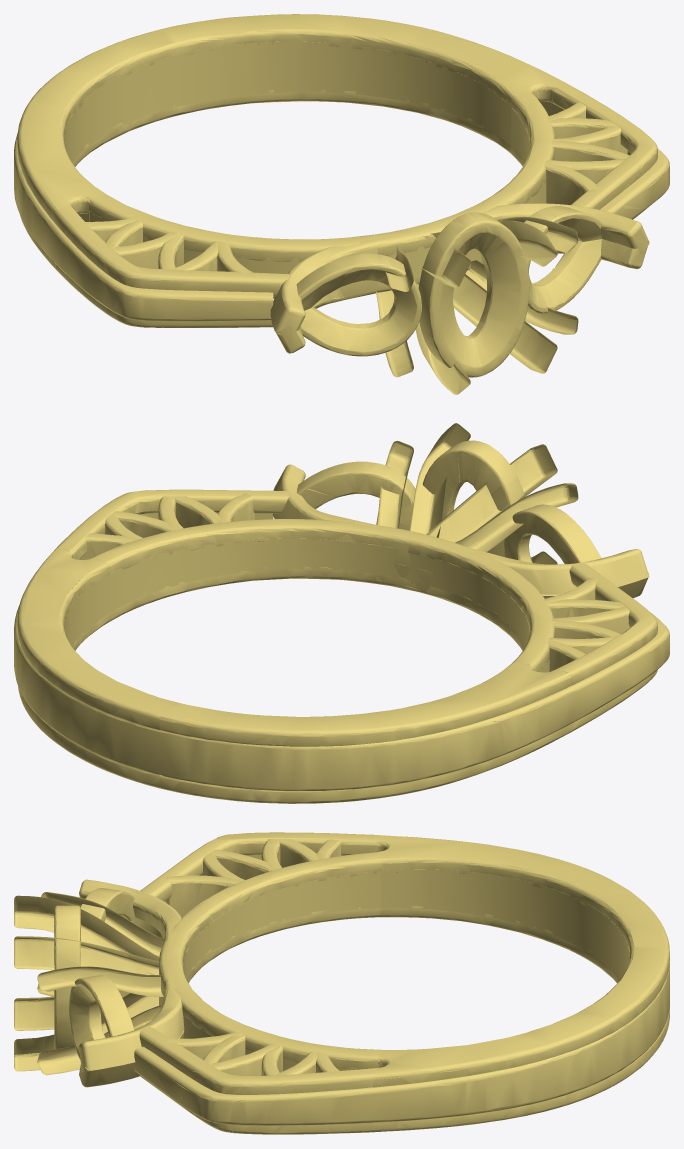
3 views of the same model, one above another, from view 1: azimuth 30°, elevation 25°; view 2: azimuth 150°, elevation 25°; view 3: azimuth 270°, elevation 25° (orthographic). The views are drawn at different scales.
Visible parts, largest first — view 1: lr-0031; view 2: lr-0031; view 3: lr-0031.
Boxes of the visible parts, x1=… form: lr-0031: x1=14, y1=14, x2=669, y2=394; lr-0031: x1=14, y1=423, x2=669, y2=803; lr-0031: x1=14, y1=832, x2=669, y2=1134.
Bounding box in the file's own units: 0.9312 × 0.2504 × 1.
